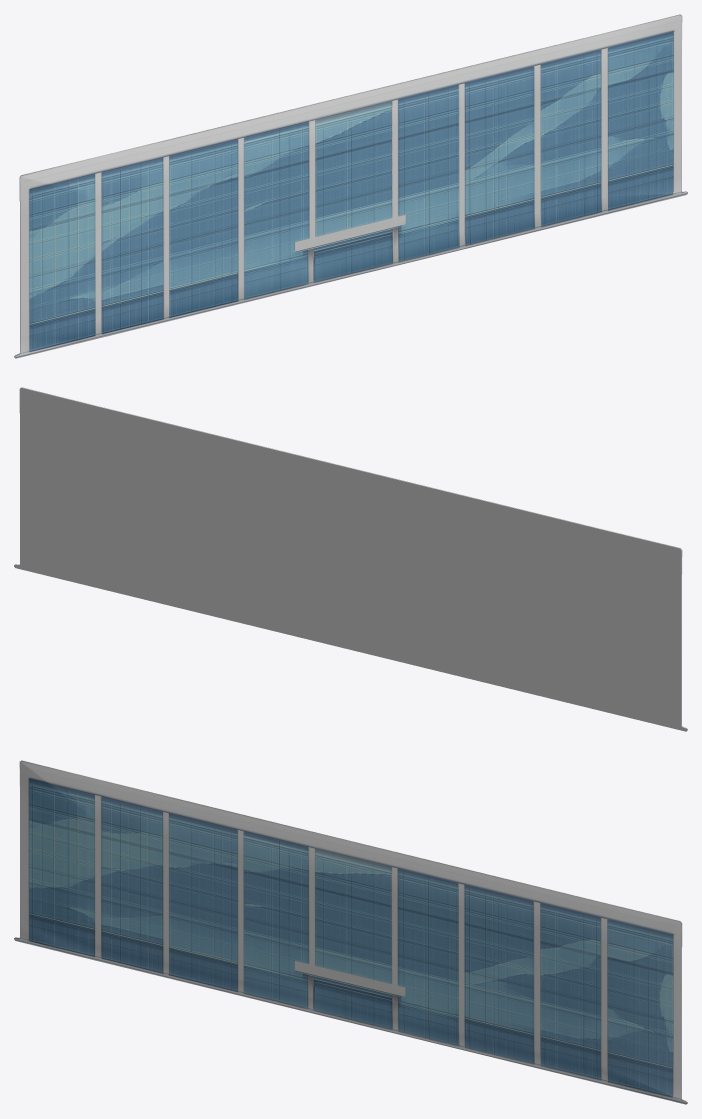
File: Fun_biled.glb
The picture shows the model from 3 angles, top to bottom: view 1: azimuth 30°, elevation 25°; view 2: azimuth 150°, elevation 25°; view 3: azimuth 330°, elevation 25°; orthographic projection.
Visible parts, largest first — view 1: Plane.001, Plane.002, Plane; view 2: Plane; view 3: Plane.001, Plane.002, Plane.
Part boxes in pixels (bbox=[...]): Plane.001: bbox=[14, 14, 687, 358]; Plane.002: bbox=[14, 15, 687, 358]; Plane: bbox=[14, 14, 686, 357]; Plane: bbox=[14, 387, 687, 731]; Plane.001: bbox=[14, 760, 687, 1104]; Plane.002: bbox=[14, 761, 687, 1104]; Plane: bbox=[15, 760, 687, 1103].
Size of the model in its own units: 2.95 by 0.7616 by 0.0101.
2 materials, 1 textured.
